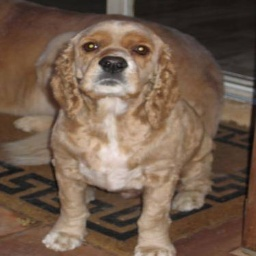dog: (33, 21, 220, 256)
